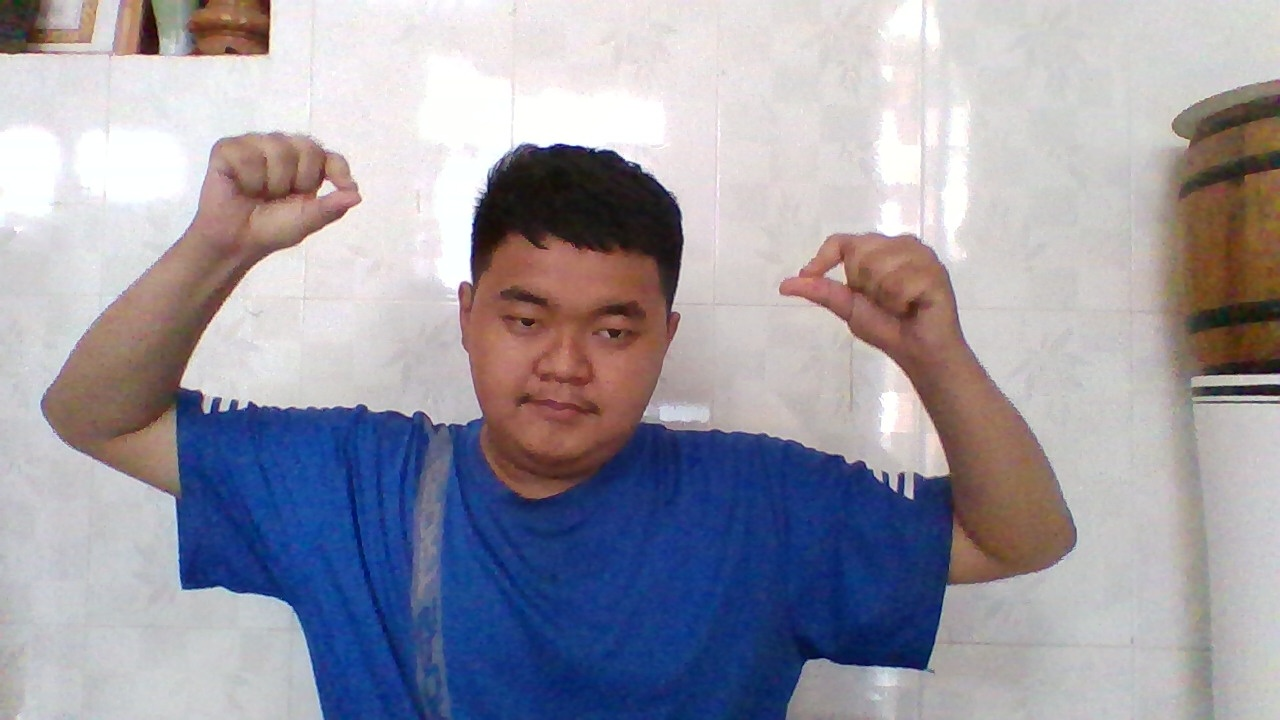S: (775, 225, 952, 379), (211, 133, 369, 265)
